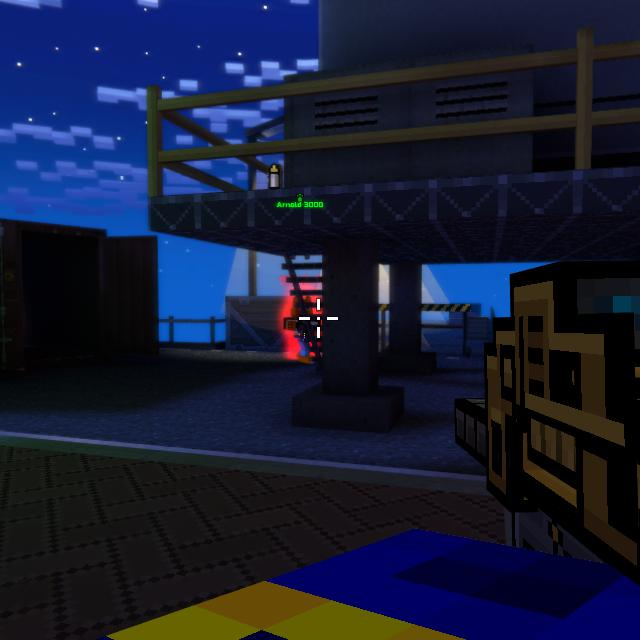Enemy: (283, 294, 322, 362)
